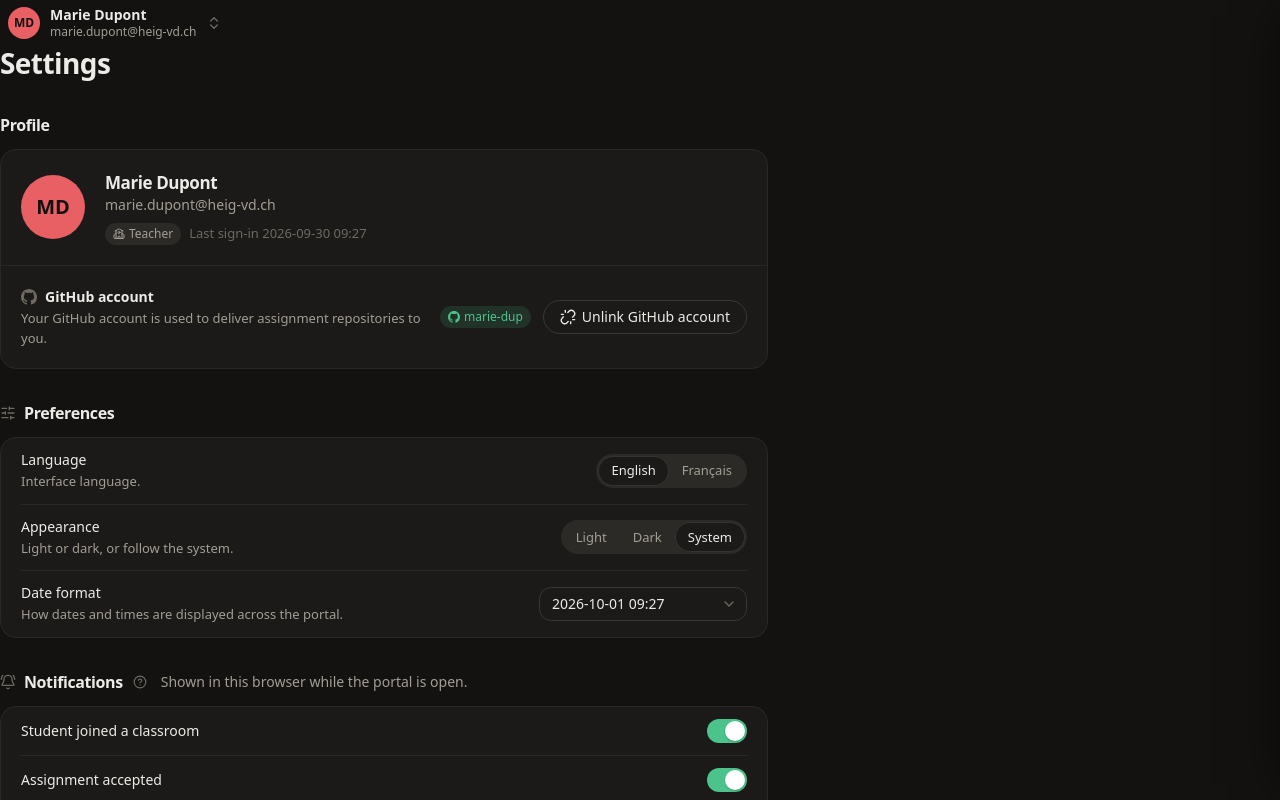
Scenario: theme surfaces stay in step › moves the settings control when the menu toggle flips the theme
Check: the radio button labelled "System" is checked, box [676,523,744,551]
What coordinates should you click on to do the following:
click the button with aria-label "User menu"
I would click on:
 (115, 23)
Its box is [0,0,230,46].
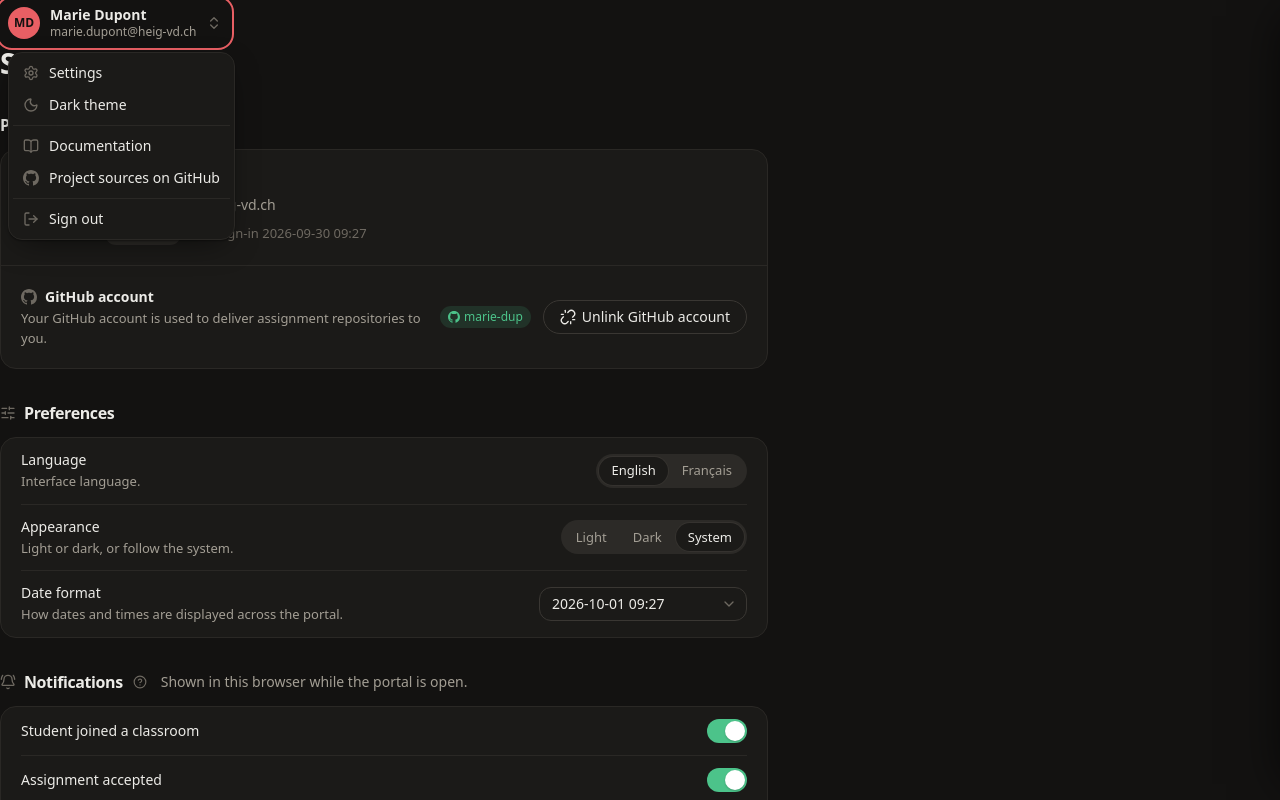
What coordinates should you click on to do the following:
click the menu item "Dark theme"
I would click on:
 (121, 104)
Its box is [13,88,230,120].
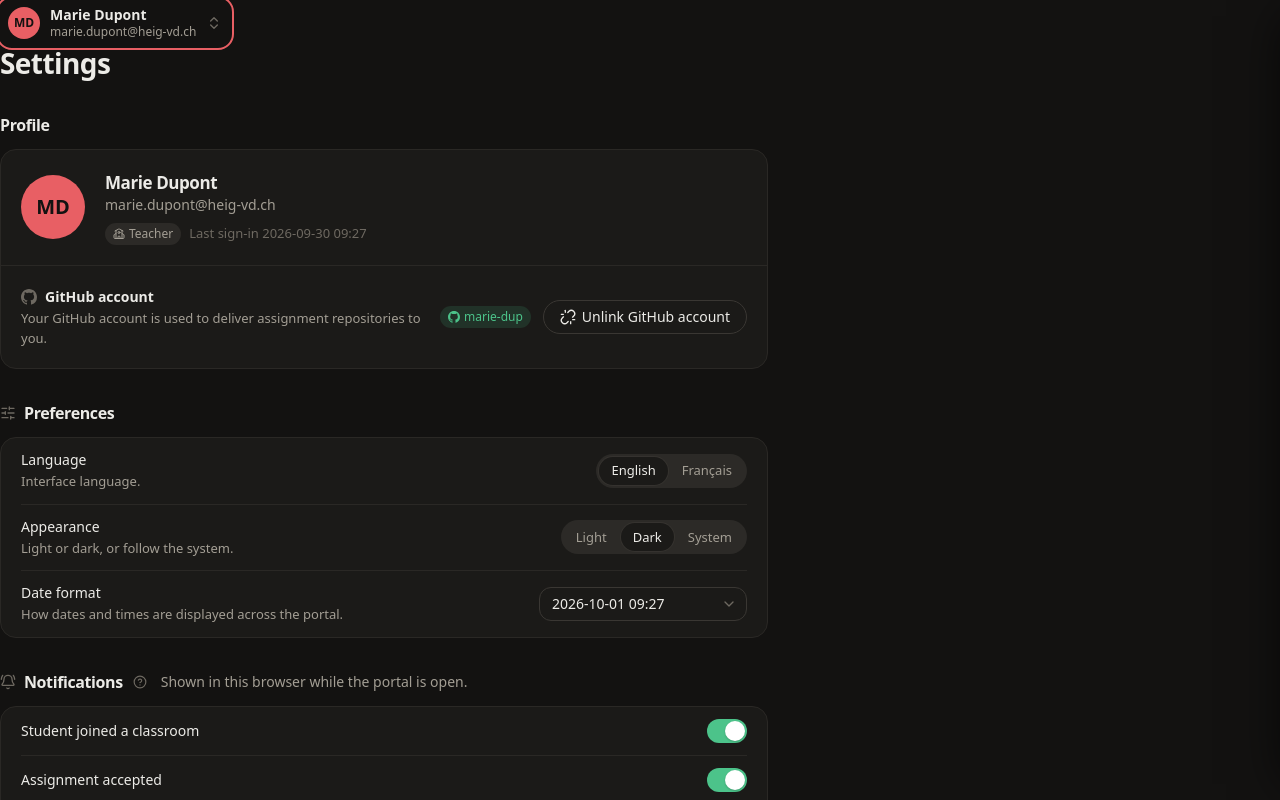
Check: the radio button labelled "Dark" is checked, box [621,523,674,551]
What coordinates should you click on to do the following:
click the button with aria-label "User menu"
I would click on:
 (115, 23)
Its box is [0,0,230,46].
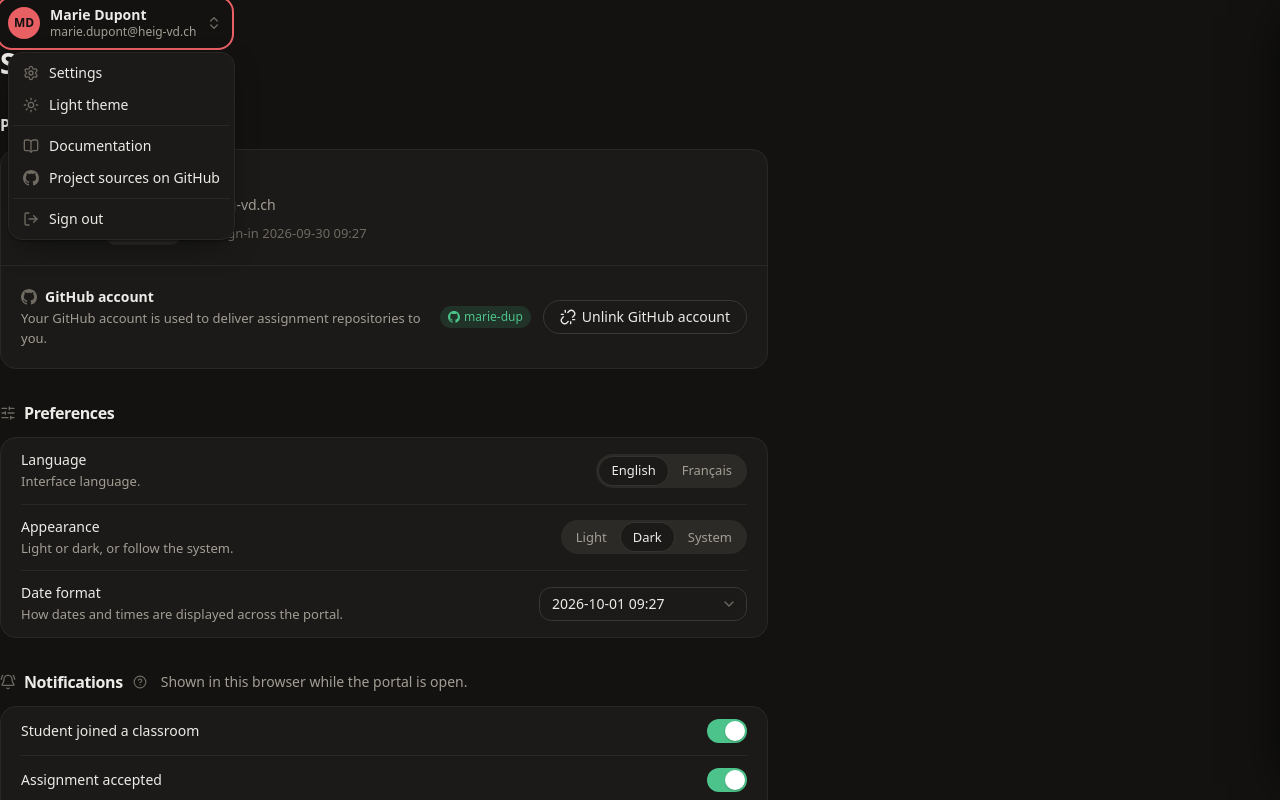
What coordinates should you click on to do the following:
click the menu item "Light theme"
I would click on:
 (121, 104)
Its box is [13,88,230,120].
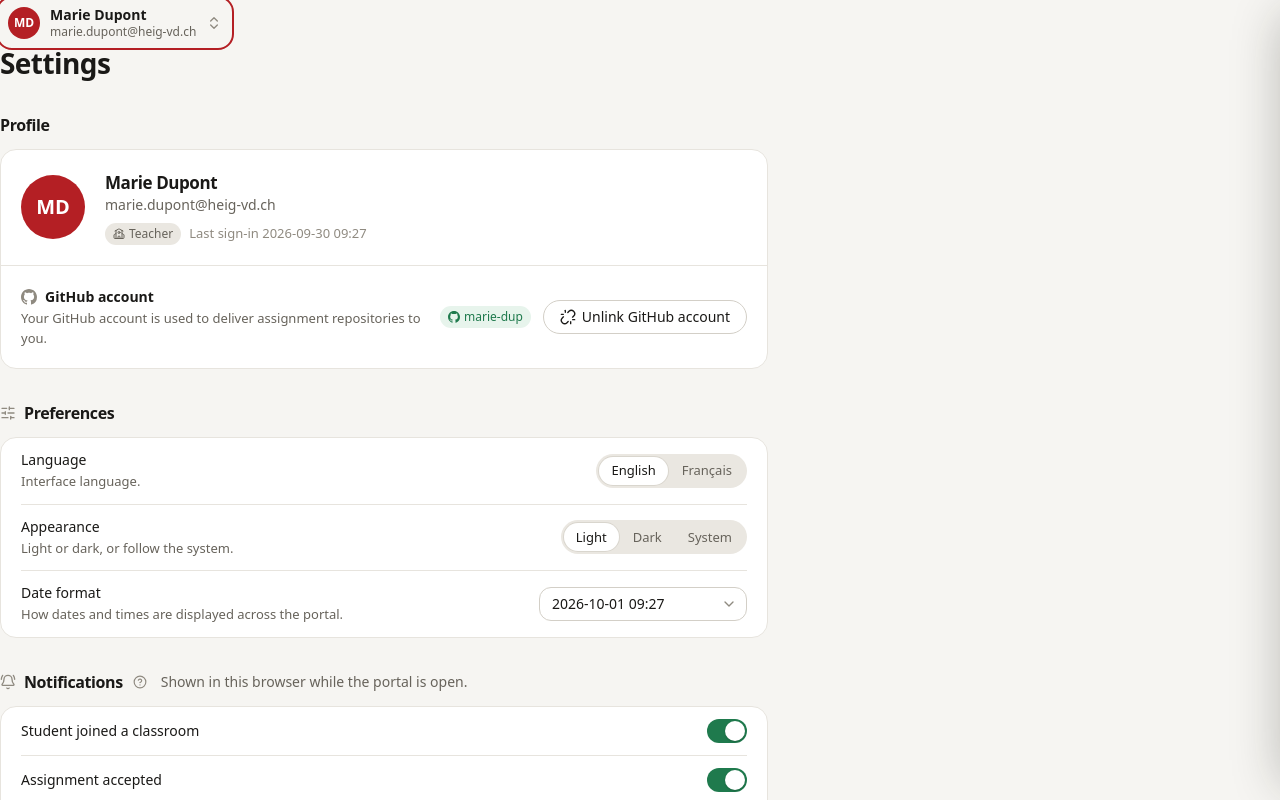
Check: the radio button labelled "Light" is checked, box [564,523,619,551]
